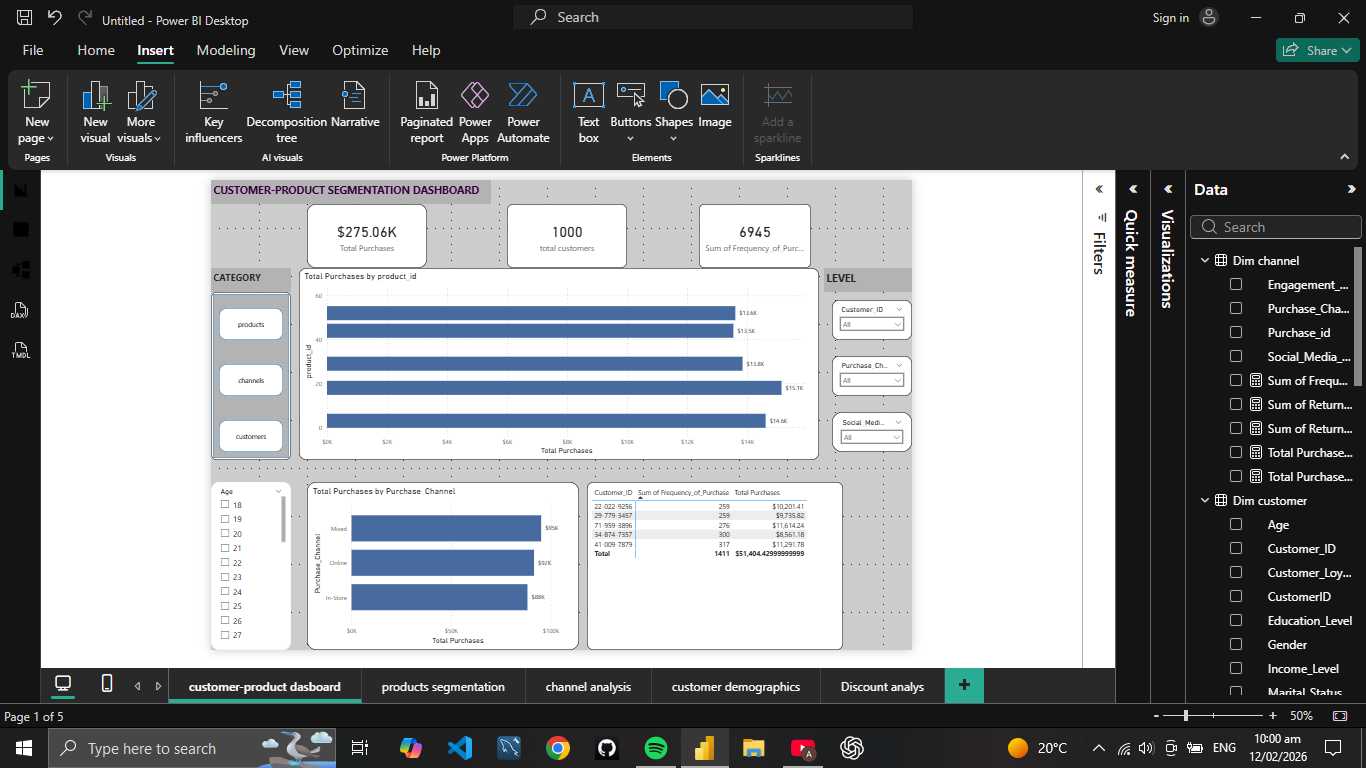

The dashboard page shown, as its layout file describes it:
{"tool":"powerbi","page":{"name":"customer-product dasboard","canvas":[1401,940],"ordinal":0},"visuals":[{"type":"clusteredBarChart","fields":{"Category":["Dim product.product_id"],"Y":["Fact eccomerce.Total Purchases"]},"box":[176,176,1040,384],"z":0},{"type":"card","fields":{"Values":["Fact eccomerce.Total Purchases"]},"box":[192,48,240,128],"z":1000},{"type":"clusteredBarChart","fields":{"Category":["Dim channel.Purchase_Channel"],"Y":["Fact eccomerce.Total Purchases"]},"box":[192,604,544,336],"z":2000},{"type":"pivotTable","fields":{"Rows":["Dim customer.Customer_ID"],"Values":["Sum(Fact eccomerce.Frequency_of_Purchase)","Fact eccomerce.Total Purchases"]},"box":[752,604,512,336],"z":3000},{"type":"card","fields":{"Values":["Fact eccomerce.total customers"]},"box":[592,48,240,128],"z":4000},{"type":"card","fields":{"Values":["Sum(Fact eccomerce.Frequency_of_Purchase)"]},"box":[976,48,224,128],"z":5000},{"type":"shape","box":[0,224,160,336],"z":6000},{"type":"shape","box":[16,256,128,64],"z":7000},{"type":"shape","box":[16,368,128,64],"z":8000},{"type":"shape","box":[16,480,128,64],"z":9000},{"type":"slicer","fields":{"Values":["Dim customer.Customer_ID"]},"box":[1241,240,160,80],"z":11000},{"type":"slicer","fields":{"Values":["Dim customer.Age"]},"box":[0,604,160,336],"z":12000},{"type":"textbox","box":[0,176,160,48],"z":13000},{"type":"slicer","fields":{"Values":["Dim channel.Purchase_Channel"]},"box":[1241,352,160,80],"z":14000},{"type":"slicer","fields":{"Values":["Dim channel.Social_Media_Influence"]},"box":[1241,464,160,80],"z":15000},{"type":"textbox","box":[1225,176,176,48],"z":16000},{"type":"textbox","box":[0,0,560,48],"z":16001}]}

Visuals, with their boxes on the page's 1401x940 design canvas (x1, y1, x2, y2). These are canvas units, not pixel positions in the 1366x768 screenshot, which may show the page scaled, cropped or inside an application window:
clusteredBarChart - Dim product.product_id x Fact eccomerce.Total Purchases: x1=176 y1=176 x2=1216 y2=560
card - Fact eccomerce.Total Purchases: x1=192 y1=48 x2=432 y2=176
clusteredBarChart - Dim channel.Purchase_Channel x Fact eccomerce.Total Purchases: x1=192 y1=604 x2=736 y2=940
pivotTable - Dim customer.Customer_ID x Sum(Fact eccomerce.Frequency_of_Purchase): x1=752 y1=604 x2=1264 y2=940
card - Fact eccomerce.total customers: x1=592 y1=48 x2=832 y2=176
card - Sum(Fact eccomerce.Frequency_of_Purchase): x1=976 y1=48 x2=1200 y2=176
shape: x1=0 y1=224 x2=160 y2=560
shape: x1=16 y1=256 x2=144 y2=320
shape: x1=16 y1=368 x2=144 y2=432
shape: x1=16 y1=480 x2=144 y2=544
slicer - Dim customer.Customer_ID: x1=1241 y1=240 x2=1401 y2=320
slicer - Dim customer.Age: x1=0 y1=604 x2=160 y2=940
textbox: x1=0 y1=176 x2=160 y2=224
slicer - Dim channel.Purchase_Channel: x1=1241 y1=352 x2=1401 y2=432
slicer - Dim channel.Social_Media_Influence: x1=1241 y1=464 x2=1401 y2=544
textbox: x1=1225 y1=176 x2=1401 y2=224
textbox: x1=0 y1=0 x2=560 y2=48
